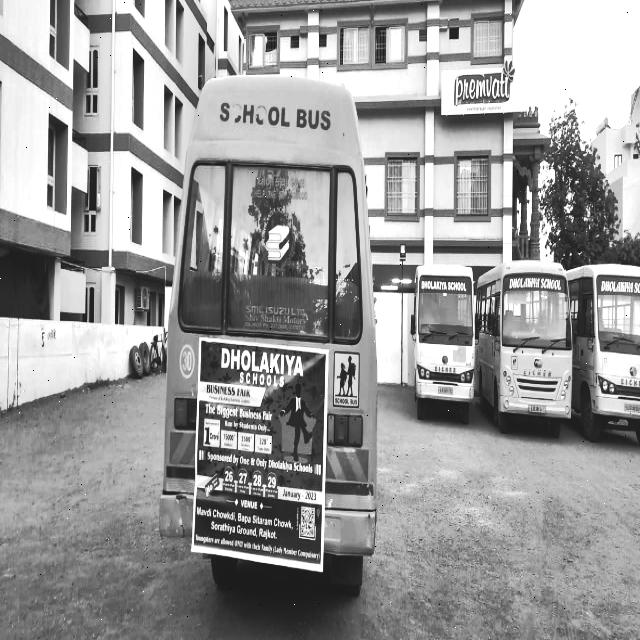Bus: (151, 53, 391, 613), (483, 258, 574, 437), (411, 259, 481, 432), (583, 259, 640, 462)
